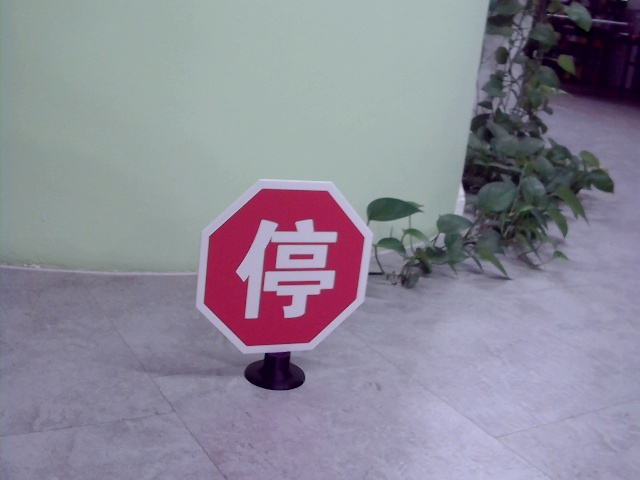stop: (240, 212, 334, 326)
